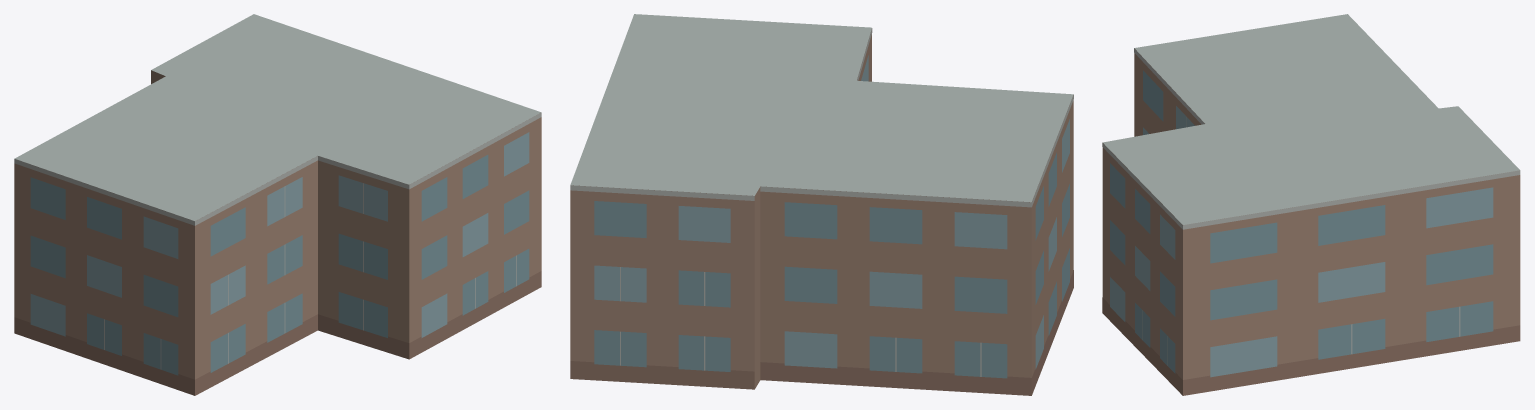
Rendered from survey-upis-32854439.glb.
The picture shows the model from 3 angles, left to right: view 1: azimuth 30°, elevation 25°; view 2: azimuth 150°, elevation 25°; view 3: azimuth 270°, elevation 25°; orthographic projection. The views are drawn at different scales.
Visible parts, largest first — view 1: survey-upis-32854439.tmp; view 2: survey-upis-32854439.tmp; view 3: survey-upis-32854439.tmp.
Boxes of the visible parts, bbox=[...] form: survey-upis-32854439.tmp: bbox=[14, 14, 541, 395]; survey-upis-32854439.tmp: bbox=[570, 14, 1073, 395]; survey-upis-32854439.tmp: bbox=[1102, 14, 1520, 395].
Size of the model in its own units: 24.29 by 9.15 by 20.31.
